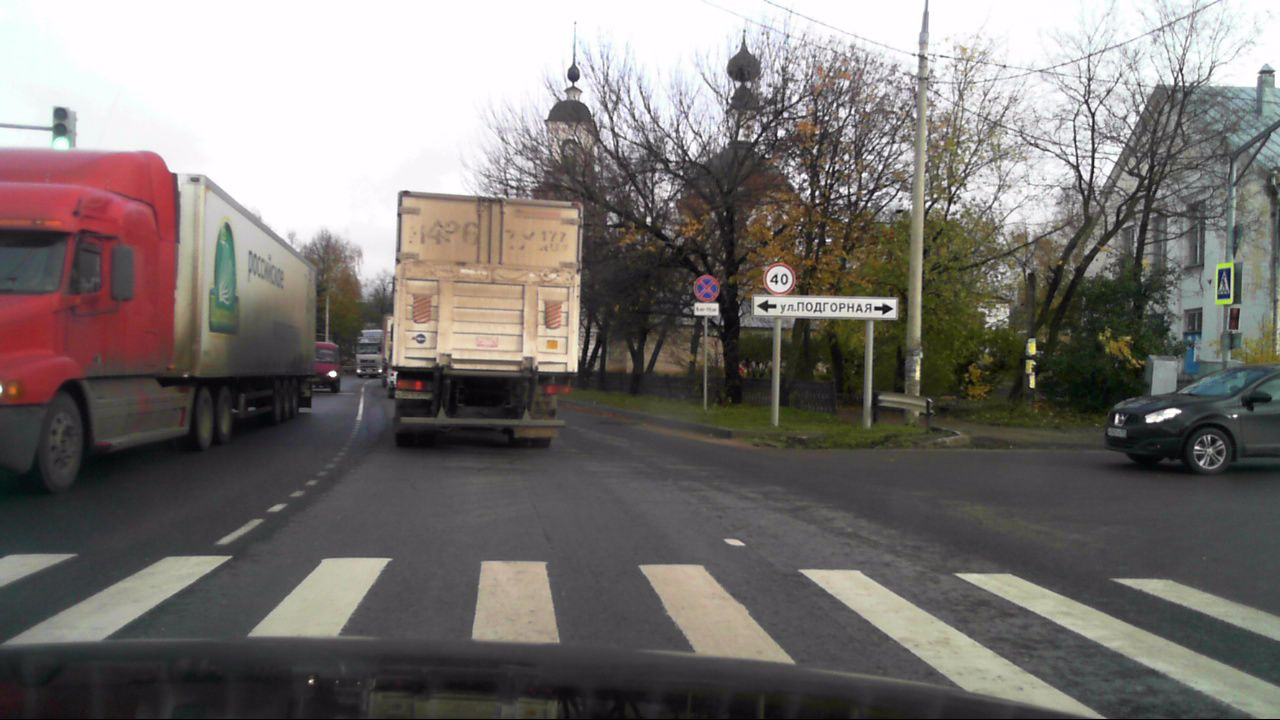No Parking: (692, 273, 720, 302)
speed_warning_40: (762, 262, 796, 296)
